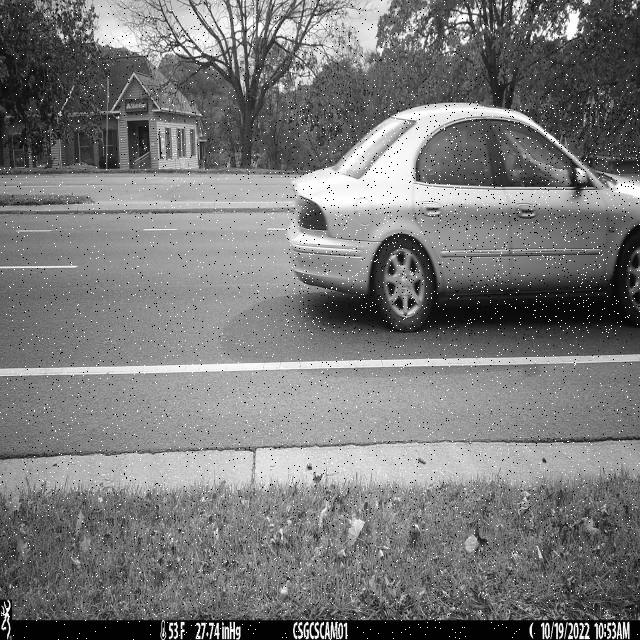Sedan: (285, 102, 640, 334)
